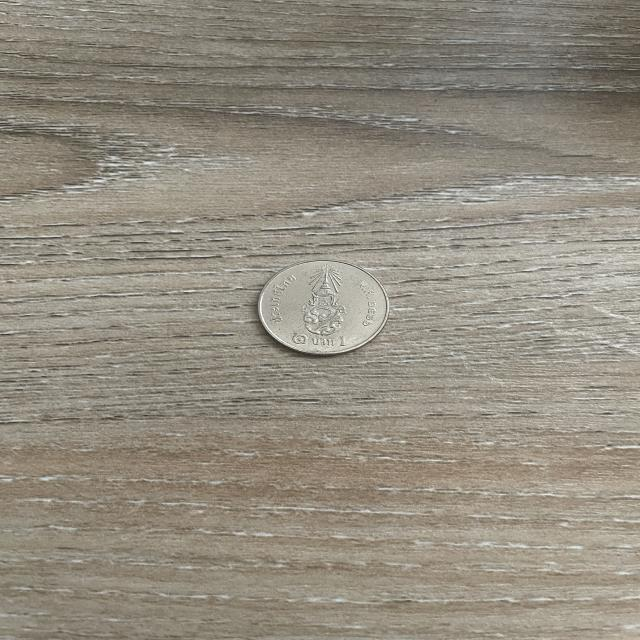1 Bath: (253, 254, 395, 363)
